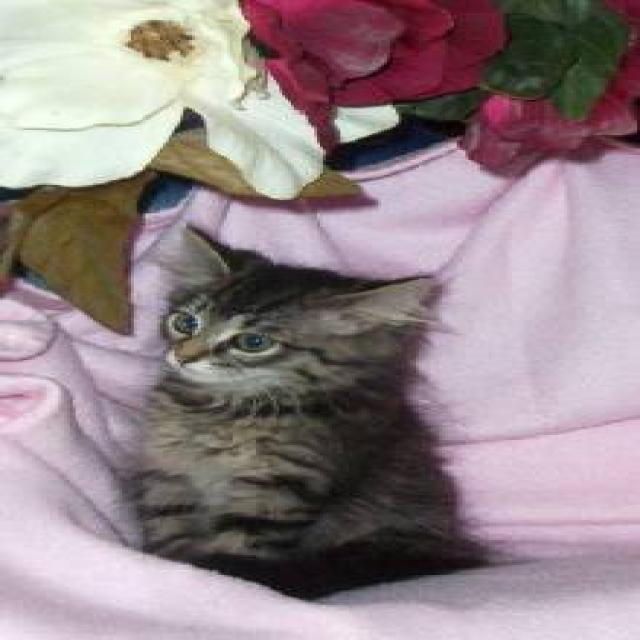cat: (128, 223, 532, 602)
